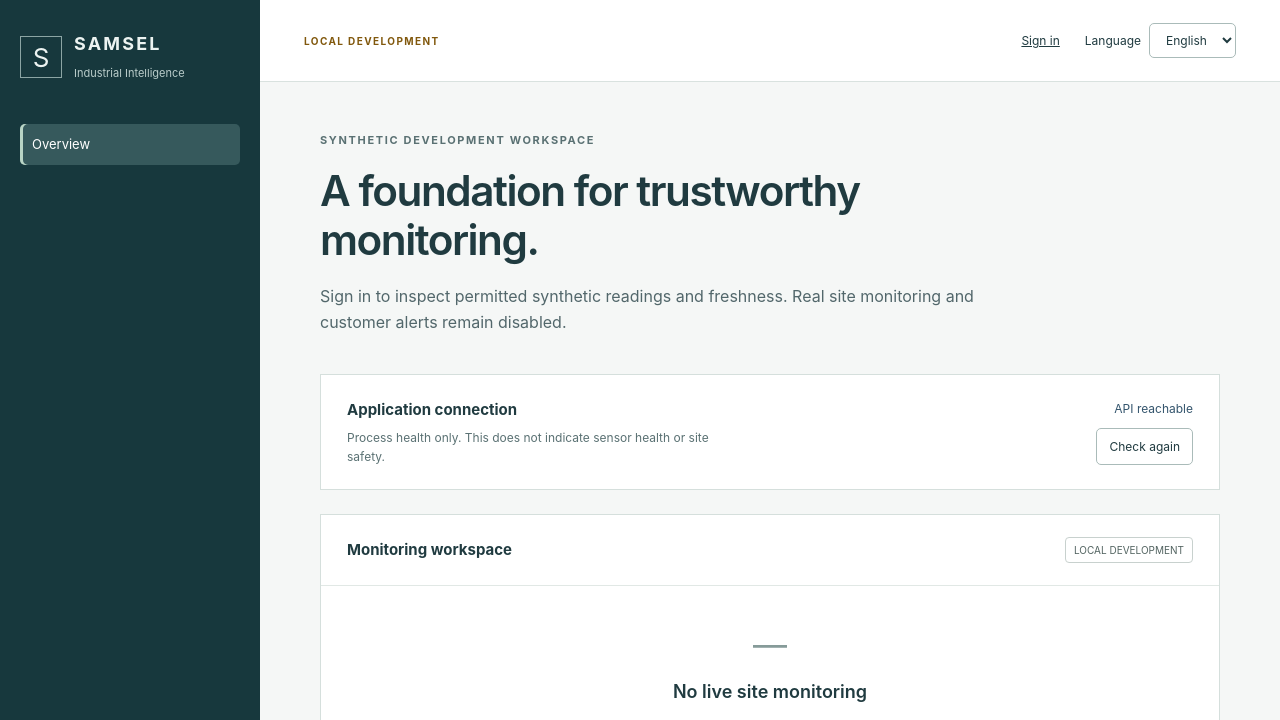
Test: Danish switch translates navigation and persists language only
Select "Dansk" in the dropdown labelled "Language" at (1192, 40), box [1149,23,1236,58]
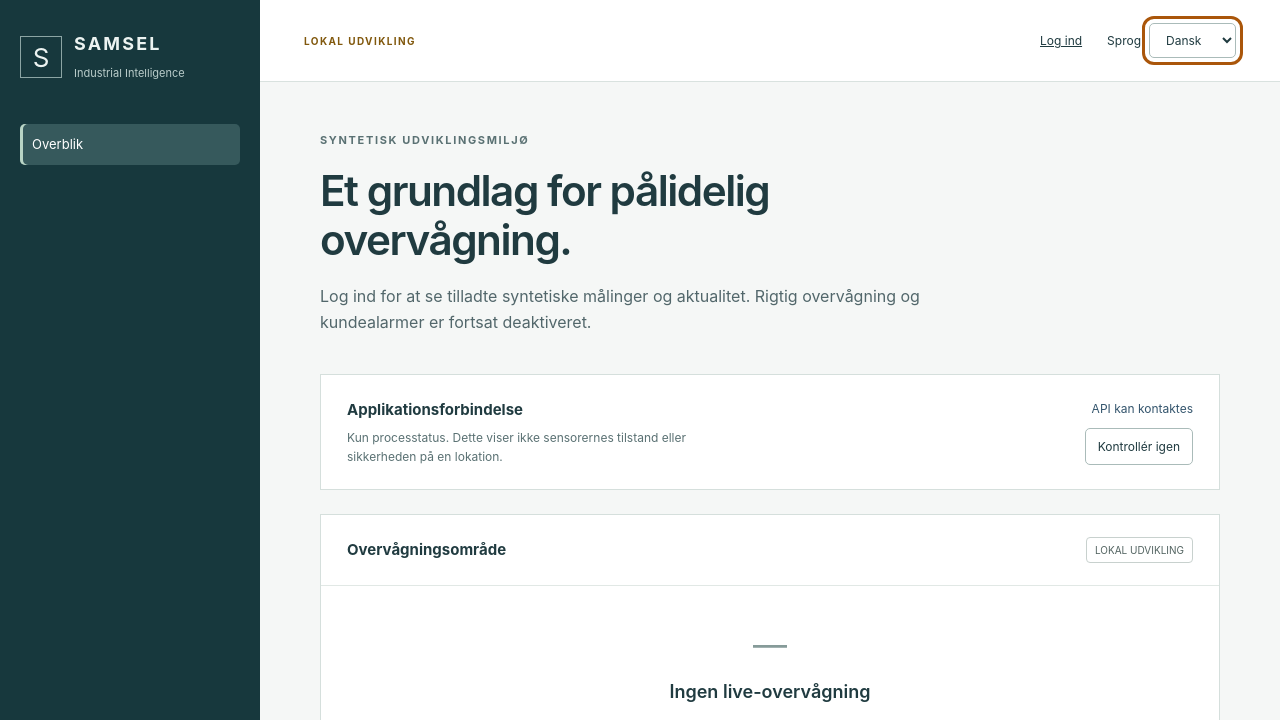
Expected: the navigation bar named "Hovednavigation" is shown, [20,124,240,165]
Expected: the heading "Ingen live-overvågning" is shown, [670,681,871,702]
